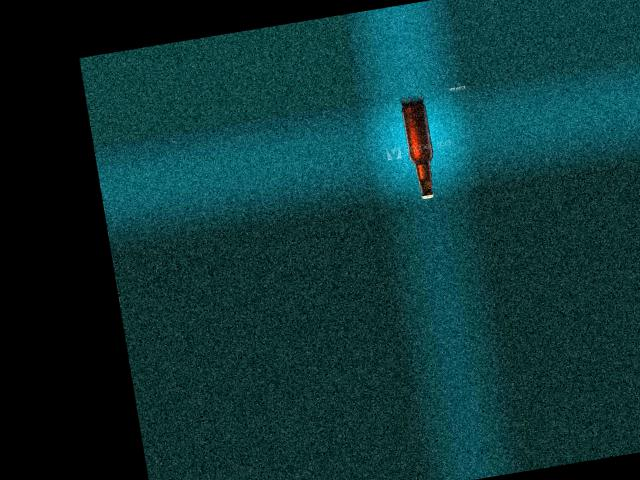beer: (401, 101, 441, 200)
